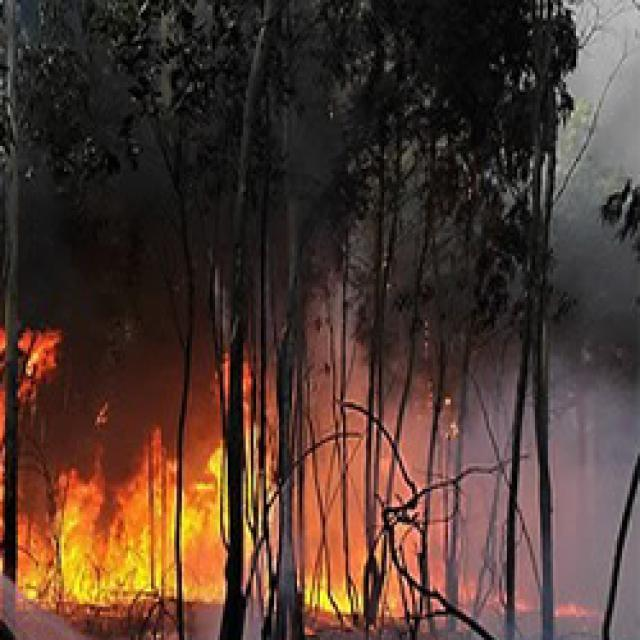Fire: (0, 441, 391, 622), (451, 575, 634, 640), (0, 274, 66, 432)
Smoke: (430, 325, 640, 640), (517, 0, 640, 354), (288, 139, 452, 322)
